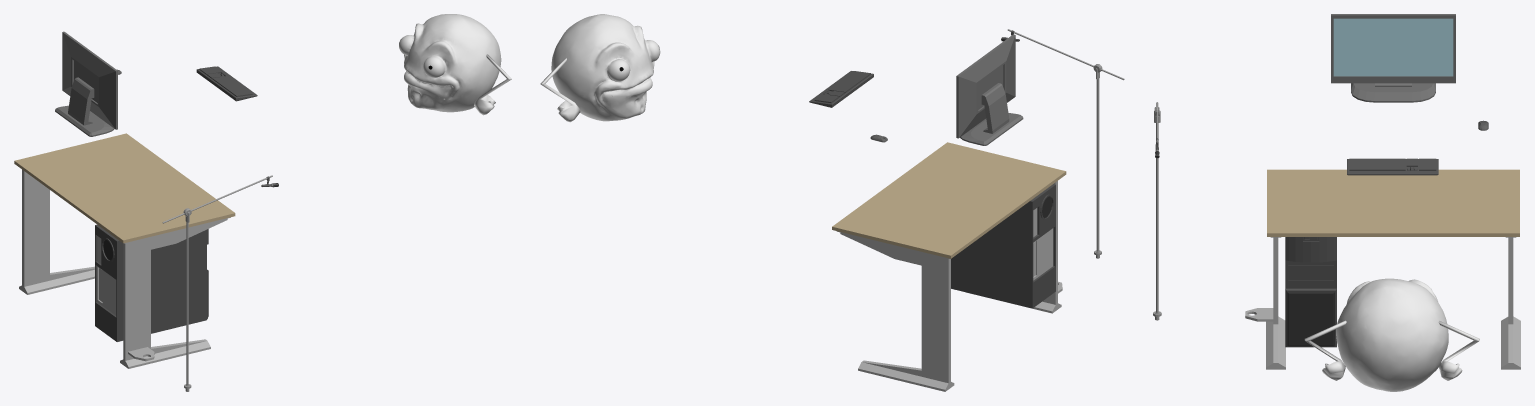
The model's file is SYRS.dae.
The picture shows the model from 3 angles, left to right: view 1: azimuth 30°, elevation 25°; view 2: azimuth 150°, elevation 25°; view 3: azimuth 270°, elevation 25°; orthographic projection. The views are drawn at different scales.
Visible parts, largest first — view 1: SyrsDesk, SYRS, SyrsMonitor, SyrsKeyboard, SyrsMic; view 2: SyrsDesk, SYRS, SyrsMonitor, SyrsMic, SyrsKeyboard; view 3: SyrsDesk, SYRS, SyrsMonitor, SyrsKeyboard, SyrsMic.
Part boxes in pixels (x1,y1,x2,y2): SyrsDesk: (14, 133, 235, 368); SYRS: (399, 14, 511, 115); SyrsMonitor: (55, 31, 117, 136); SyrsKeyboard: (196, 66, 257, 101); SyrsMic: (162, 175, 278, 391); SyrsDesk: (832, 142, 1066, 391); SYRS: (540, 14, 660, 122); SyrsMonitor: (956, 34, 1023, 145); SyrsMic: (1001, 29, 1124, 258); SyrsKeyboard: (809, 71, 873, 107); SyrsDesk: (1245, 169, 1520, 369); SYRS: (1304, 278, 1479, 391); SyrsMonitor: (1331, 14, 1455, 102); SyrsKeyboard: (1347, 158, 1438, 175); SyrsMic: (1153, 102, 1161, 320).
Size of the model in its own units: 6.13 by 3.88 by 3.7.
